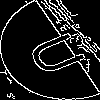U: (24, 25, 98, 79)
